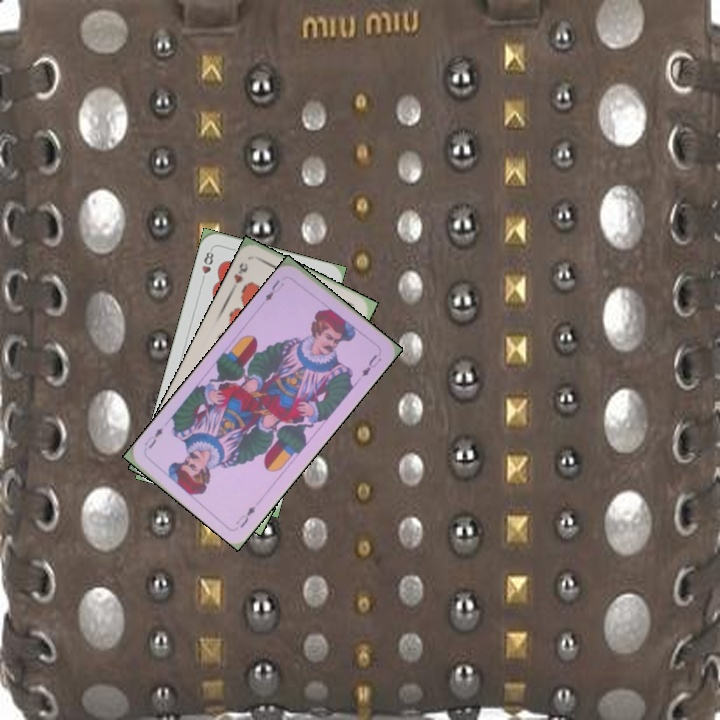EU: (231, 502, 258, 531), (261, 276, 287, 304)
H8: (197, 245, 216, 285)
H9: (228, 259, 251, 292)
